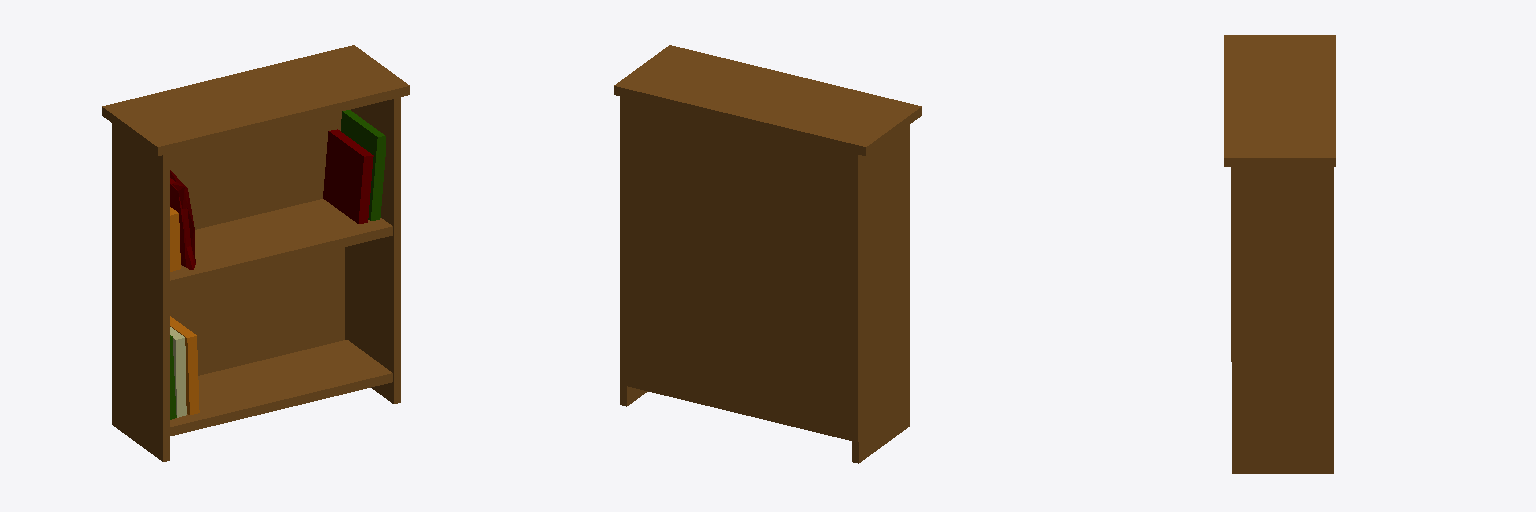
The model's file is smallbookshelves.obj.
3 views of the same model, side by side, from view 1: azimuth 30°, elevation 25°; view 2: azimuth 150°, elevation 25°; view 3: azimuth 270°, elevation 25° (orthographic).
Parts seen in each view (by area): view 1: Mesh.003_middle_shelf; view 2: Mesh.003_middle_shelf; view 3: Mesh.003_middle_shelf.
Part boxes in pixels (x1,y1,x2,y2): Mesh.003_middle_shelf: (102, 45, 409, 461); Mesh.003_middle_shelf: (614, 45, 921, 463); Mesh.003_middle_shelf: (1224, 35, 1335, 473).
Size of the model in its own units: 11.48 by 13.9 by 4.4.